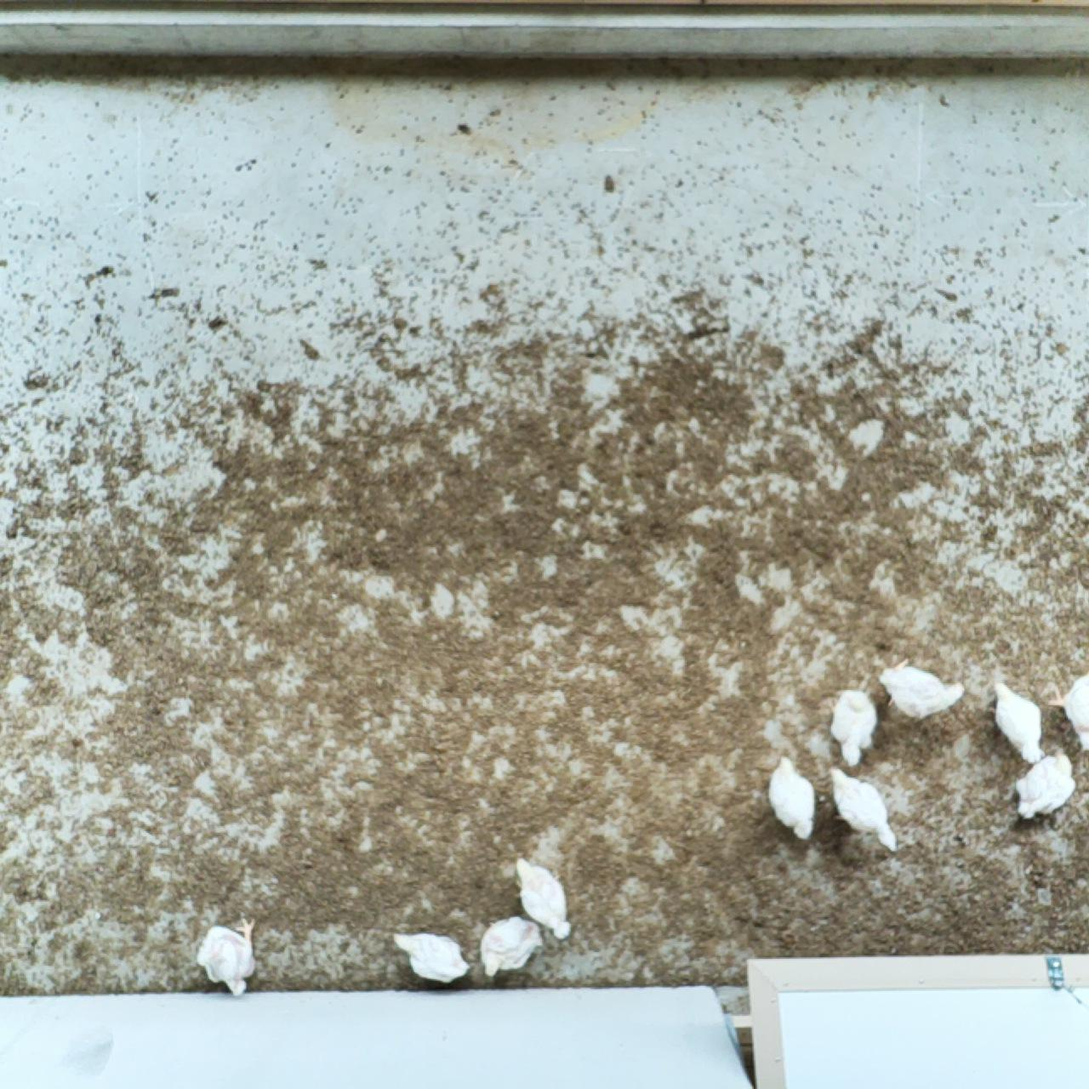chicken: (822, 766, 901, 859), (876, 652, 970, 723), (190, 911, 261, 1000), (509, 851, 574, 944), (983, 672, 1050, 762), (1006, 747, 1079, 825), (816, 682, 881, 767), (763, 754, 823, 844), (391, 924, 472, 987), (477, 912, 547, 982), (1047, 666, 1089, 755)
